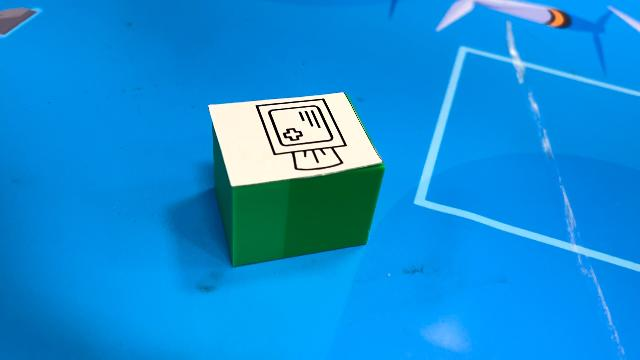napkin: (206, 90, 386, 268)
